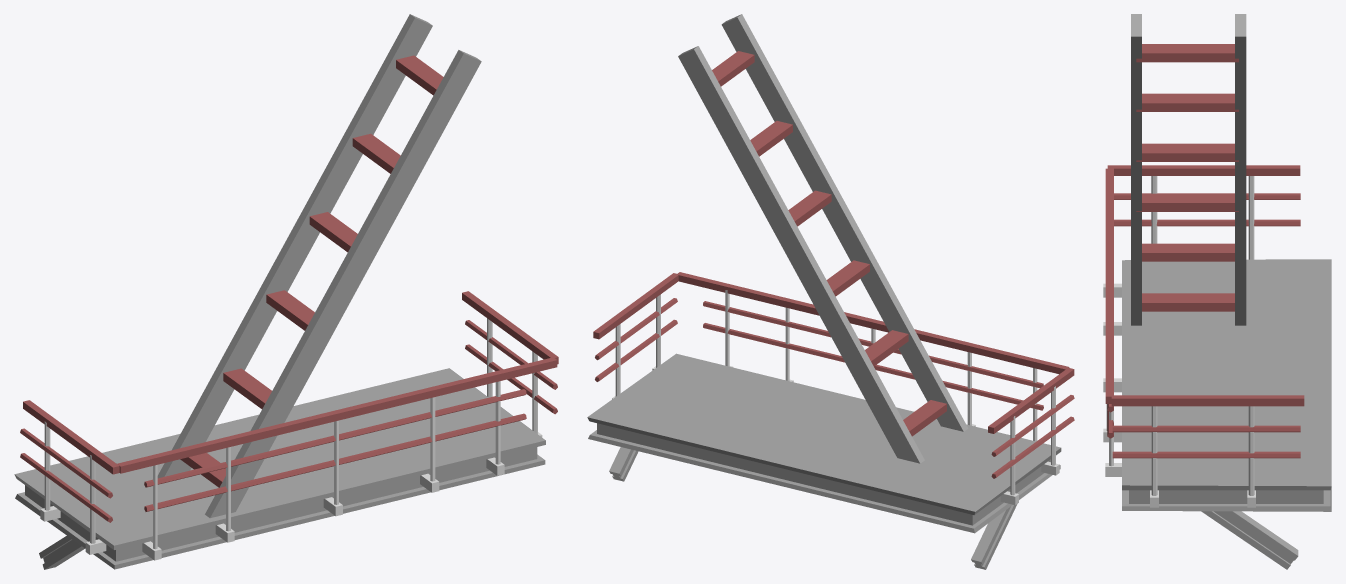
File: FireEscape.fbx
The picture shows the model from 3 angles, left to right: view 1: azimuth 30°, elevation 25°; view 2: azimuth 150°, elevation 25°; view 3: azimuth 270°, elevation 25°; orthographic projection. The views are drawn at different scales.
Parts seen in each view (by area): view 1: pCube26; view 2: pCube26; view 3: pCube26.
Part boxes in pixels (<box>): pCube26: <box>14,14,558,569</box>; pCube26: <box>587,14,1074,569</box>; pCube26: <box>1103,14,1331,569</box>.
Bounding box in the file's own units: 1049 × 1075 × 429.
